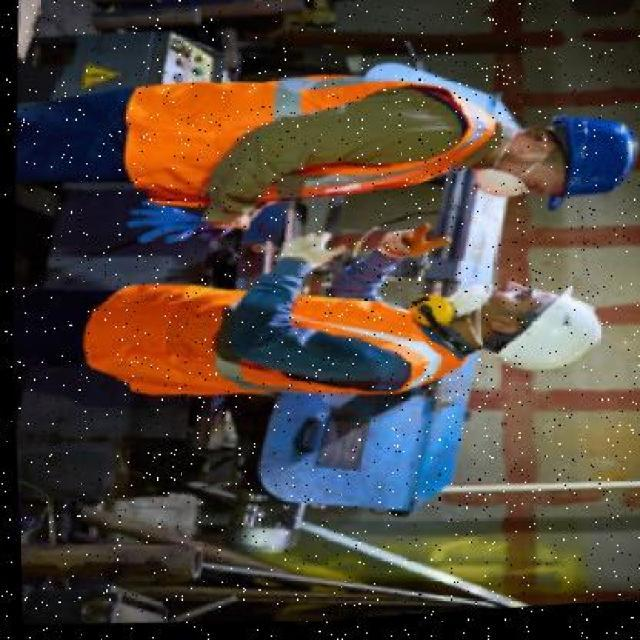helmet: (481, 274, 605, 394), (531, 106, 639, 232)
vest: (128, 63, 498, 233), (94, 266, 452, 417)
